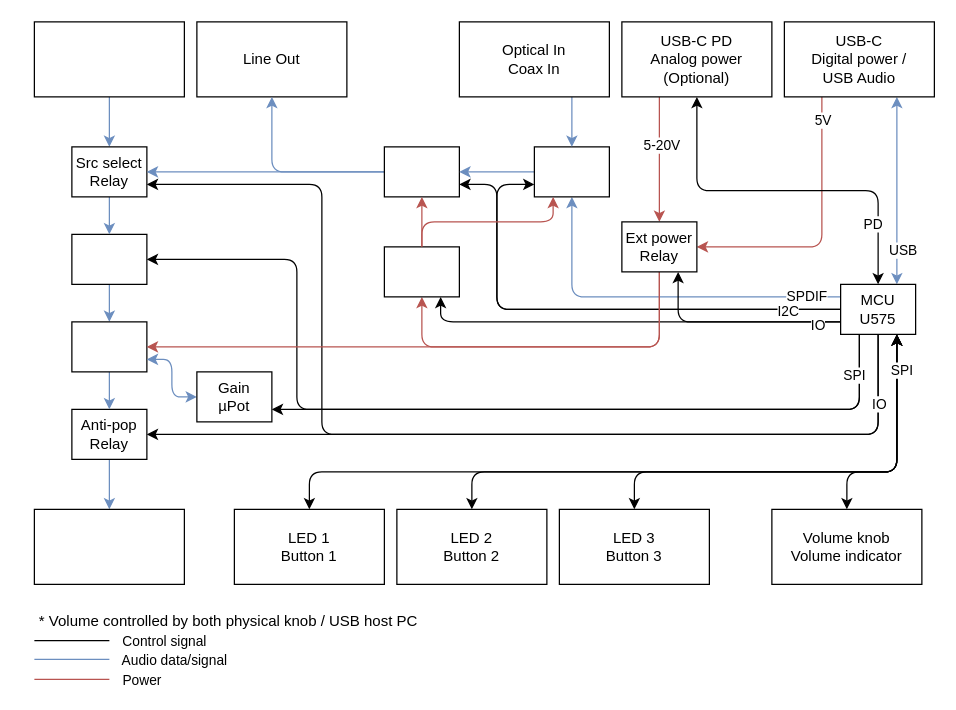
This 956x710 diagram has some shape labels left out. Each missing label, with the box of its shape:
6.3mm Jack: (33, 508, 184, 584)
Amp: (71, 321, 147, 372)
DAC CS4398: (383, 146, 459, 197)
LDO / Bypass: (383, 246, 459, 297)
Line In: (33, 21, 184, 97)
SPDIF CS8416: (533, 146, 609, 197)
Volume µPot*: (71, 233, 147, 284)
